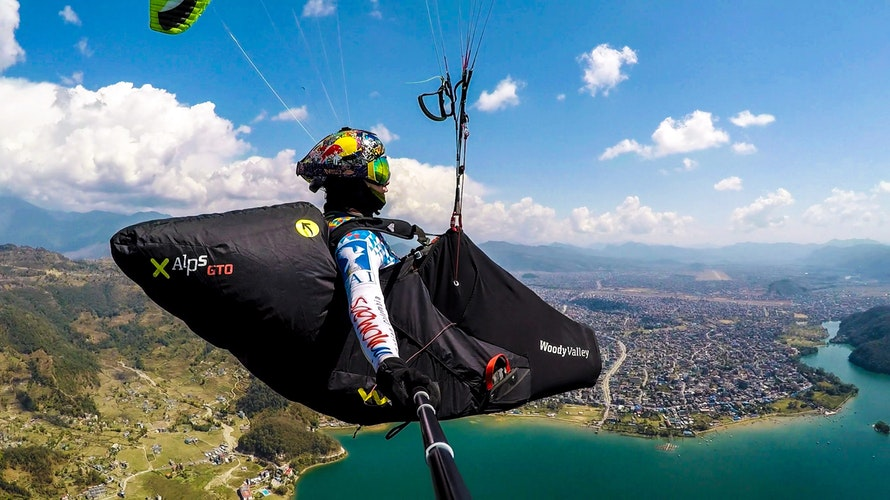helmet: (302, 124, 394, 200)
